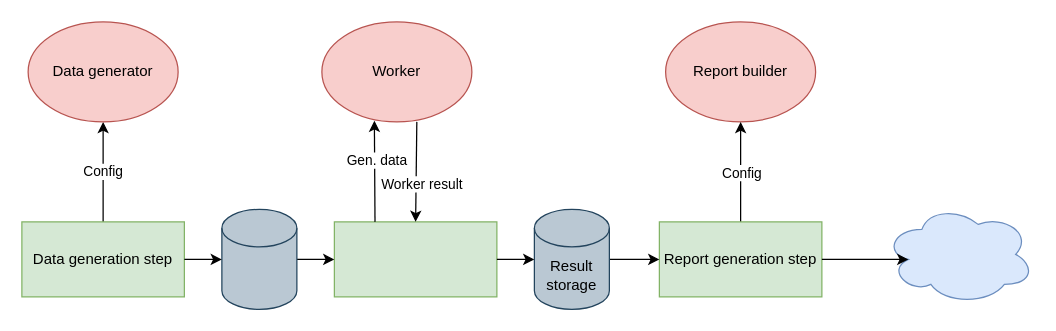
This 1056x331 diagram has some shape labels left out. Here are the shapes that lost their labels. From the top down, the centre of each, then its label:
At (259,258): "Gen. data storage".
At (415,259): "Test execution step".
At (958,253): "Report".
